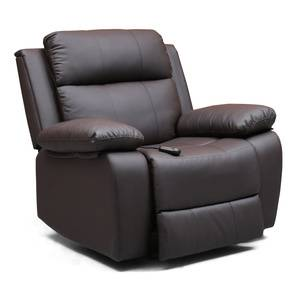chairs: (13, 25, 286, 272)
